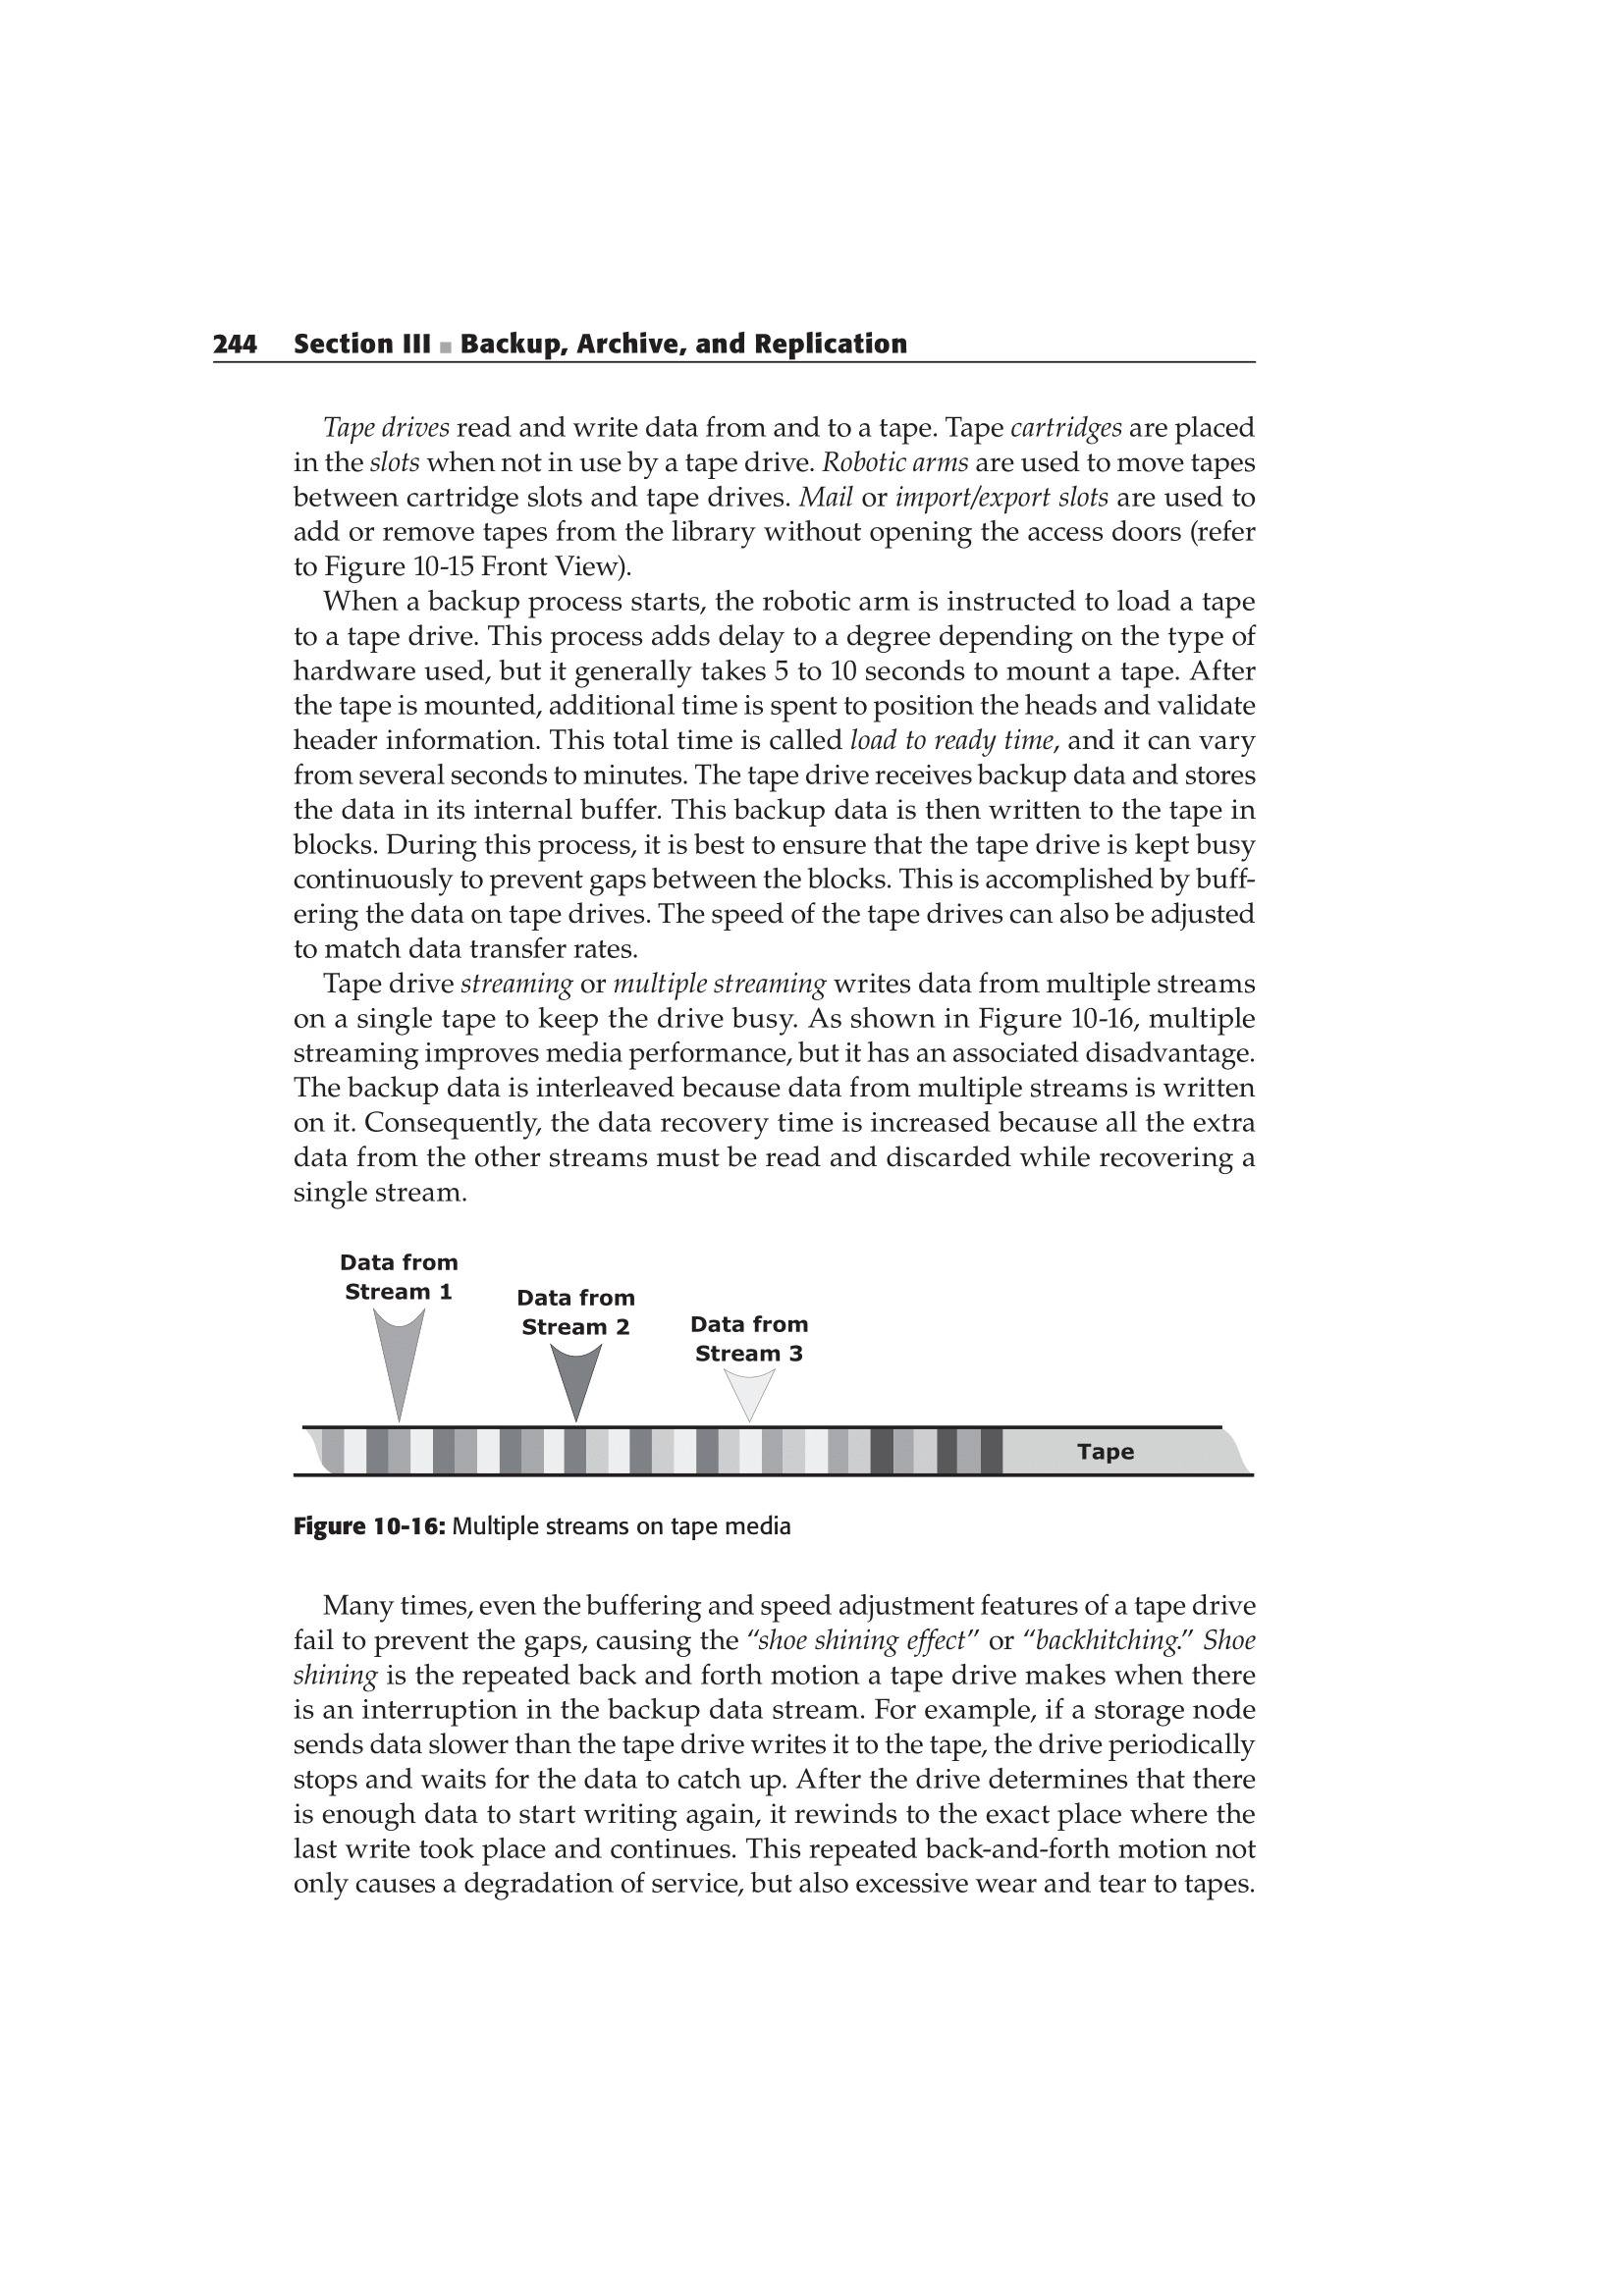Image: (279, 1238, 1279, 1503)
Paragraph: (286, 585, 1279, 967), (283, 1585, 1259, 1905), (283, 967, 1279, 1218), (269, 374, 1270, 579), (177, 311, 931, 360), (288, 1515, 799, 1548)
